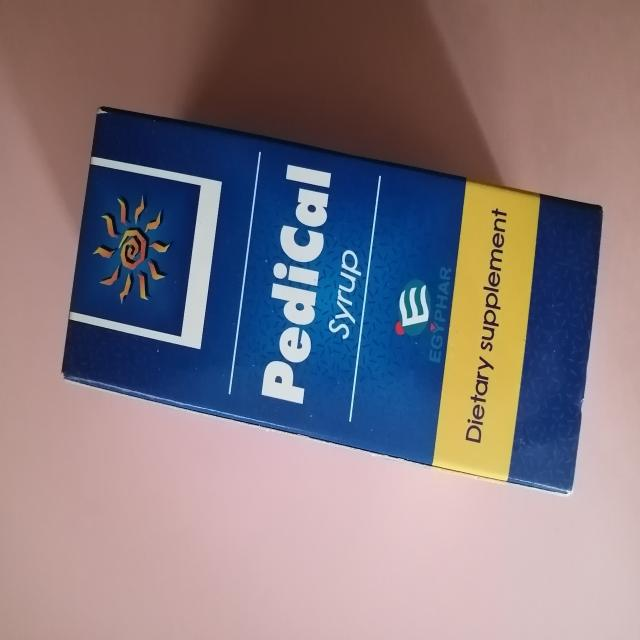Medicine: (61, 101, 604, 495)
